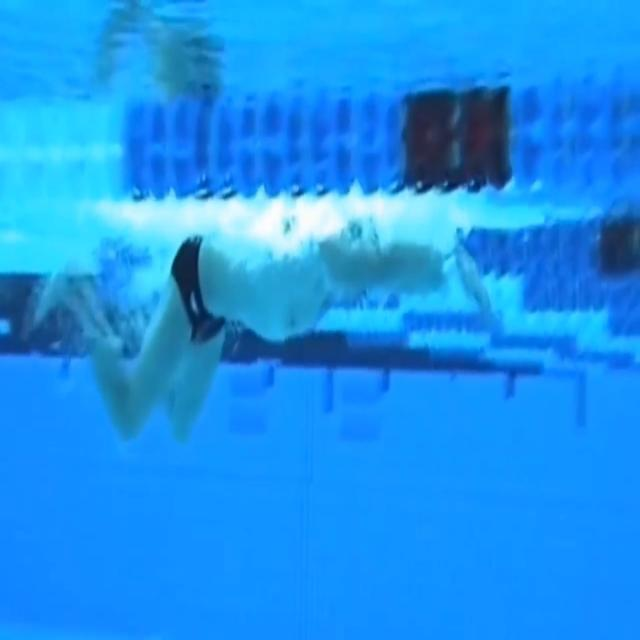Swimming: (38, 228, 448, 453)
